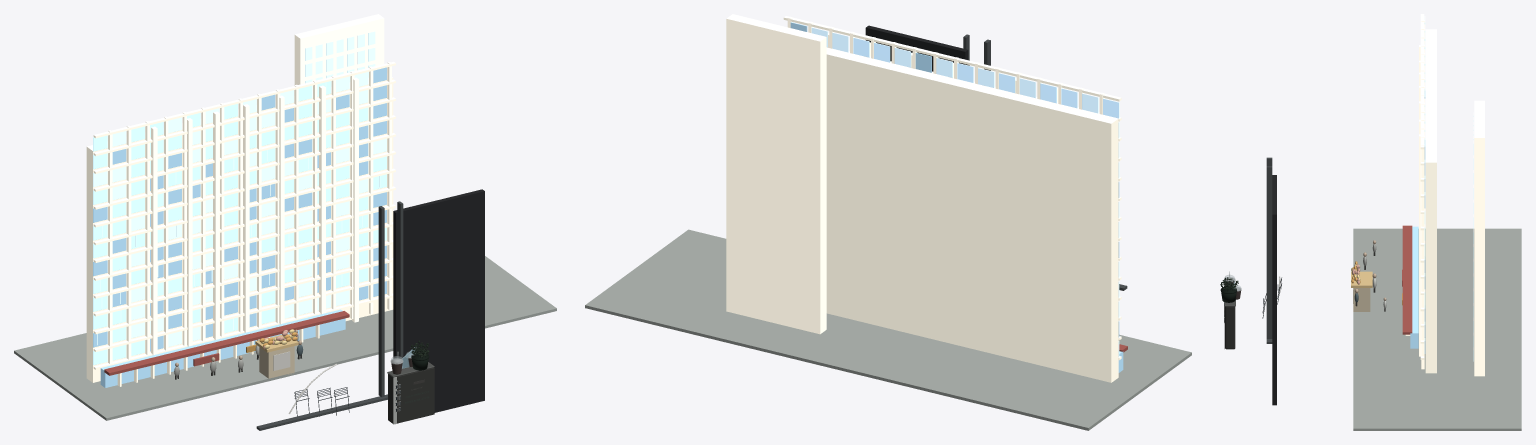
Rendered from scene-0-gpt6.glb.
The picture shows the model from 3 angles, left to right: view 1: azimuth 30°, elevation 25°; view 2: azimuth 150°, elevation 25°; view 3: azimuth 270°, elevation 25°; orthographic projection. The views are drawn at different scales.
Visible parts, largest first — view 1: right interior wall, ground plane, distant office body, far right building, store dark glazing, store awning, shadowed front face, wide stone facade pier, wide stone facade pier.002, wide stone facade pier.005, wide stone facade pier.003, wide stone facade pier.006 (+36 smaller); view 2: distant office body, ground plane, far right building, office floor band.013, right interior wall; view 3: ground plane, distant office body, far right building, right edge window mullion, store awning, right interior wall, store dark glazing, vertical sandstone pier.015, office floor band.013, charging station body, wide stone facade pier.006, little kiosk.
Boxes of the visible parts, <box> form: right interior wall: <box>393,189,484,412</box>; ground plane: <box>14,256,556,420</box>; distant office body: <box>86,73,393,382</box>; far right building: <box>294,14,384,91</box>; store dark glazing: <box>100,309,345,387</box>; store awning: <box>104,311,349,375</box>; shadowed front face: <box>397,368,434,423</box>; wide stone facade pier: <box>151,126,157,355</box>; wide stone facade pier.002: <box>213,111,219,339</box>; wide stone facade pier.005: <box>319,85,325,314</box>; wide stone facade pier.003: <box>243,104,249,332</box>; wide stone facade pier.006: <box>352,77,358,322</box>; distant office body: <box>826,47,1118,382</box>; ground plane: <box>585,229,1191,430</box>; far right building: <box>726,14,826,334</box>; office floor band.013: <box>783,16,1121,101</box>; right interior wall: <box>865,25,968,71</box>; ground plane: <box>1353,228,1521,430</box>; distant office body: <box>1425,29,1436,373</box>; far right building: <box>1474,100,1484,376</box>; right edge window mullion: <box>1266,166,1272,338</box>; store awning: <box>1402,225,1412,334</box>; right interior wall: <box>1272,175,1276,405</box>; store dark glazing: <box>1410,226,1418,348</box>; vertical sandstone pier.015: <box>1421,144,1424,369</box>; office floor band.013: <box>1420,14,1424,149</box>; charging station body: <box>1225,306,1235,349</box>; wide stone facade pier.006: <box>1419,134,1420,356</box>; little kiosk: <box>1353,288,1370,311</box>.
Size of the model in its own units: 45 by 28.5 by 28.67.
